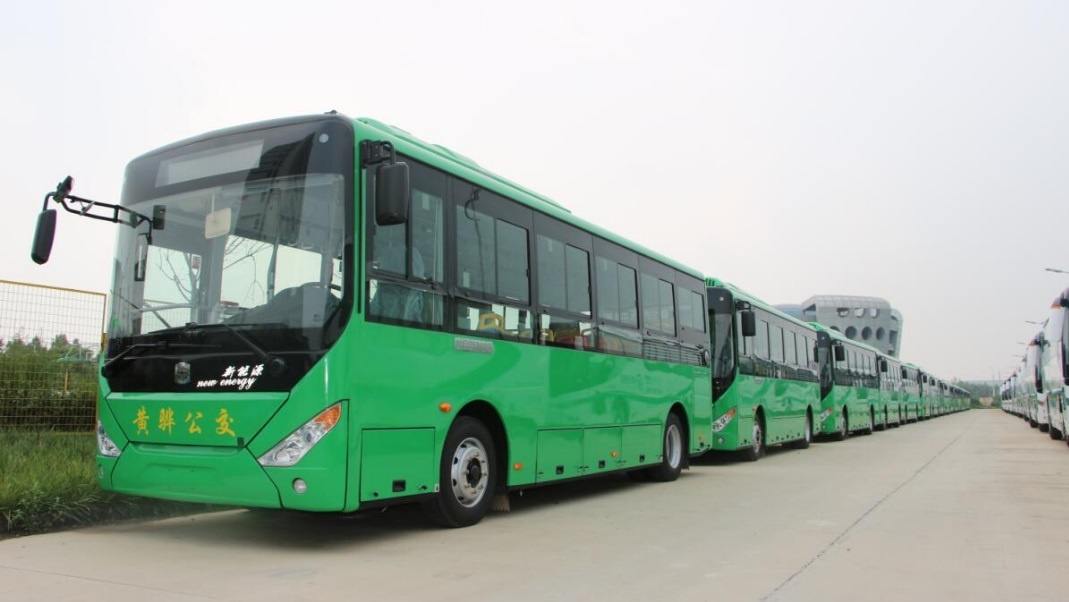bus: (55, 97, 731, 538)
